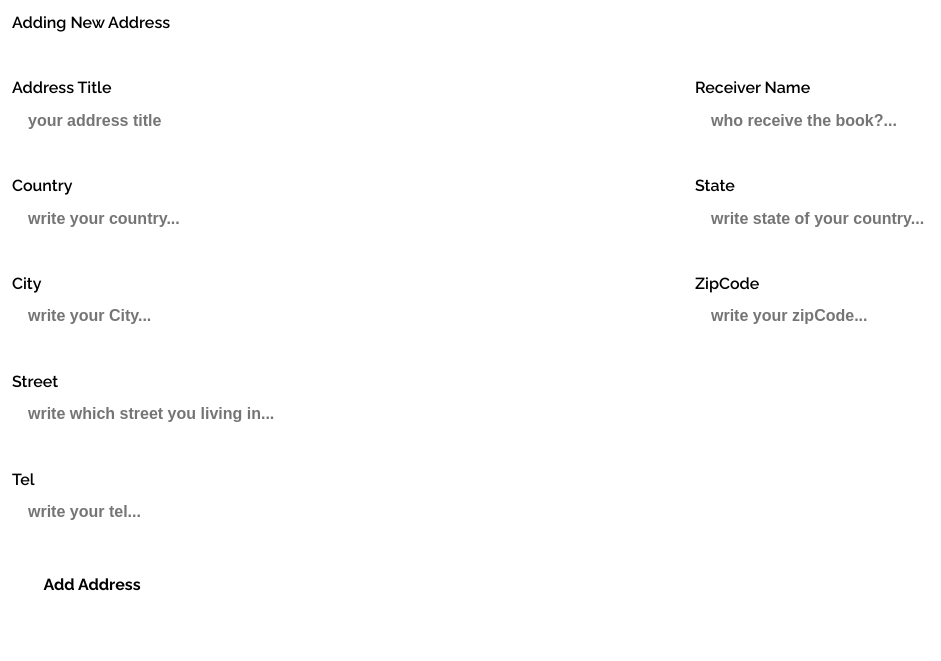
Test Component : Address Modifier › test if its render correctly › test inputs behavior › if inputs are empty then if click on the add button show error
Click the button with test id "addressModifierButton": click(92, 585) [12,569,172,601]
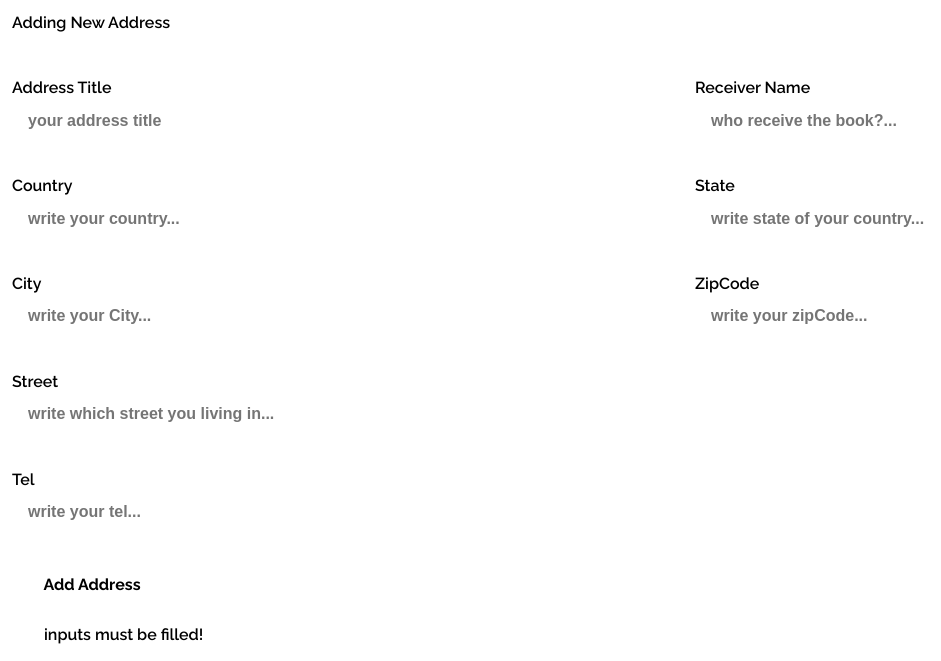
Now the element with test id "errorMessage" reads "inputs must be filled!", box [44,625,203,644]
